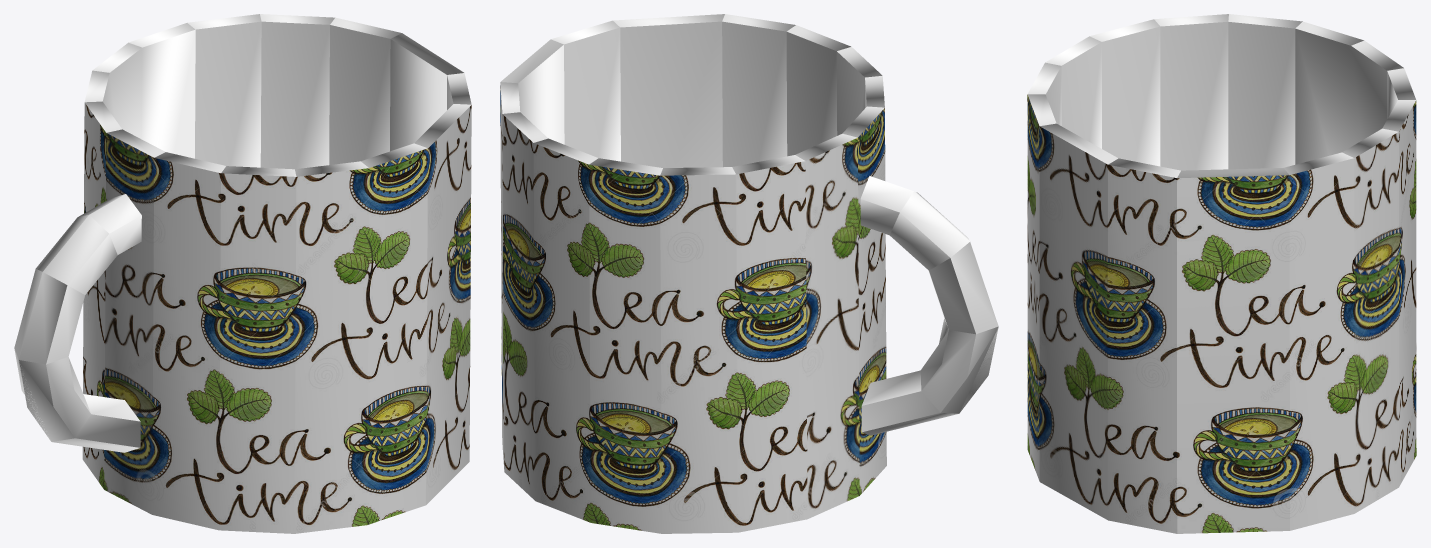
File: KTB0110021.fbx
The picture shows the model from 3 angles, left to right: view 1: azimuth 30°, elevation 25°; view 2: azimuth 150°, elevation 25°; view 3: azimuth 270°, elevation 25°; orthographic projection.
Parts seen in each view (by area): view 1: smKTB0110021; view 2: smKTB0110021; view 3: smKTB0110021.
Boxes of the visible parts, x1,y1,x2,y2 form: smKTB0110021: [14, 14, 471, 533]; smKTB0110021: [500, 14, 998, 533]; smKTB0110021: [1027, 14, 1416, 533].
Bounding box in the file's own units: 18.65 × 14.33 × 14.08.
1 material, 1 textured.
